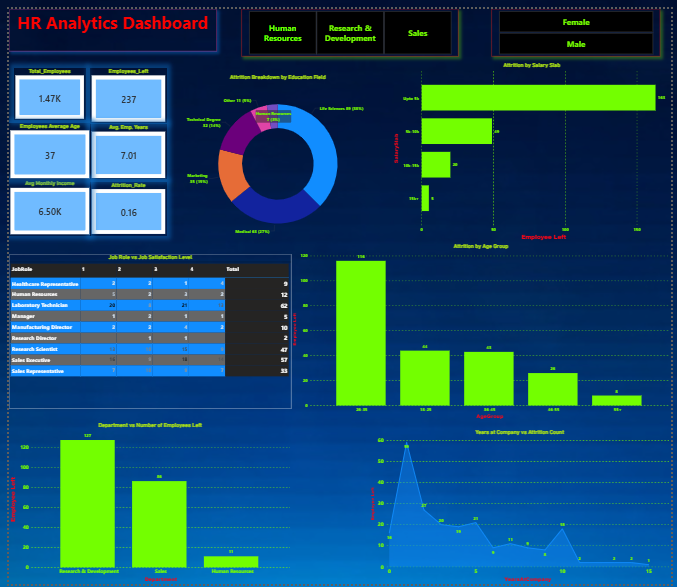

Layout of this report page (visuals, bound fields, positions):
{"tool":"powerbi","page":{"name":"HR Analytics Dashboard","canvas":[2300,2000],"ordinal":0},"visuals":[{"type":"donutChart","title":"Attrition Breakdown by Education Field","fields":{"Category":["HR_Analytics.EducationField"],"Y":["HR_Analytics.Employee Left"]},"box":[540.8,226,792.2,604.3],"z":0},{"type":"cardVisual","title":"Attrition_Rate","fields":{"Data":["HR_Analytics.Attrition Rate"]},"box":[284.4,599.2,266.6,187.9],"z":1000},{"type":"cardVisual","title":"Avg Monthly Income","fields":{"Data":["HR_Analytics.Avg Monthly Income"]},"box":[0,594.2,284.4,193],"z":2000},{"type":"cardVisual","title":"Employees_Left","fields":{"Data":["HR_Analytics.Employee Left"]},"box":[284.4,203.1,266.6,193],"z":3000},{"type":"cardVisual","title":"Avg. Emp. Years","fields":{"Data":["Avg(HR_Analytics.YearsAtCompany)"]},"box":[284.4,401.2,266.6,193],"z":4000},{"type":"cardVisual","title":"Total_Employees","fields":{"Data":["HR_Analytics.Total Employees"]},"box":[17.8,203.1,248.8,182.8],"z":5000},{"type":"clusteredColumnChart","title":"Attrition by Age Group","fields":{"Y":["HR_Analytics.Employee Left"],"Category":["HR_Analytics.AgeGroup"]},"box":[982.7,812.5,1317.8,622.1],"z":6000},{"type":"clusteredBarChart","title":"Attrition by Salary Slab","fields":{"Category":["HR_Analytics.SalarySlab"],"Y":["HR_Analytics.Employee Left"]},"box":[1333.1,182.8,967.4,629.7],"z":7000},{"type":"pivotTable","title":"Job Role vs Job Satisfaction Level","fields":{"Rows":["HR_Analytics.JobRole"],"Columns":["HR_Analytics.JobSatisfaction"],"Values":["HR_Analytics.Employee Left"]},"box":[0,850.6,982.7,538.3],"z":8000},{"type":"areaChart","title":"Years at Company vs Attrition Count","fields":{"Category":["HR_Analytics.YearsAtCompany"],"Y":["HR_Analytics.Employee Left"]},"box":[1251.8,1462.6,1048.7,538.3],"z":9000},{"type":"clusteredColumnChart","title":"Department vs Number of Employees Left","fields":{"Y":["HR_Analytics.Employee Left"],"Category":["HR_Analytics.Department"]},"box":[0,1434.6,982.7,566.2],"z":10000},{"type":"textbox","box":[0,0,722.5,147.5],"z":11000},{"type":"slicer","fields":{"Values":["HR_Analytics.Department"]},"box":[810,0,754.1,165],"z":12000},{"type":"slicer","fields":{"Values":["HR_Analytics.Gender"]},"box":[1678.4,0,586.6,165],"z":13000},{"type":"cardVisual","title":"Employees Average Age","fields":{"Data":["Avg(HR_Analytics.Age)"]},"box":[0,396.1,284.4,198.1],"z":14000}]}

Visuals, with their boxes in screenshot pixels (x1, y1, x2, y2), scaled from the page's 2300x2000 canvas onto the 677x587 screenshot:
"Attrition Breakdown by Education Field" donutChart: 159/66/392/244
"Attrition_Rate" cardVisual: 84/176/162/231
"Avg Monthly Income" cardVisual: 0/174/84/231
"Employees_Left" cardVisual: 84/60/162/116
"Avg. Emp. Years" cardVisual: 84/118/162/174
"Total_Employees" cardVisual: 5/60/78/113
"Attrition by Age Group" clusteredColumnChart: 289/238/676/421
"Attrition by Salary Slab" clusteredBarChart: 392/54/676/238
"Job Role vs Job Satisfaction Level" pivotTable: 0/250/289/408
"Years at Company vs Attrition Count" areaChart: 368/429/676/586
"Department vs Number of Employees Left" clusteredColumnChart: 0/421/289/586
textbox: 0/0/213/43
slicer - HR_Analytics.Department: 238/0/460/48
slicer - HR_Analytics.Gender: 494/0/667/48
"Employees Average Age" cardVisual: 0/116/84/174
